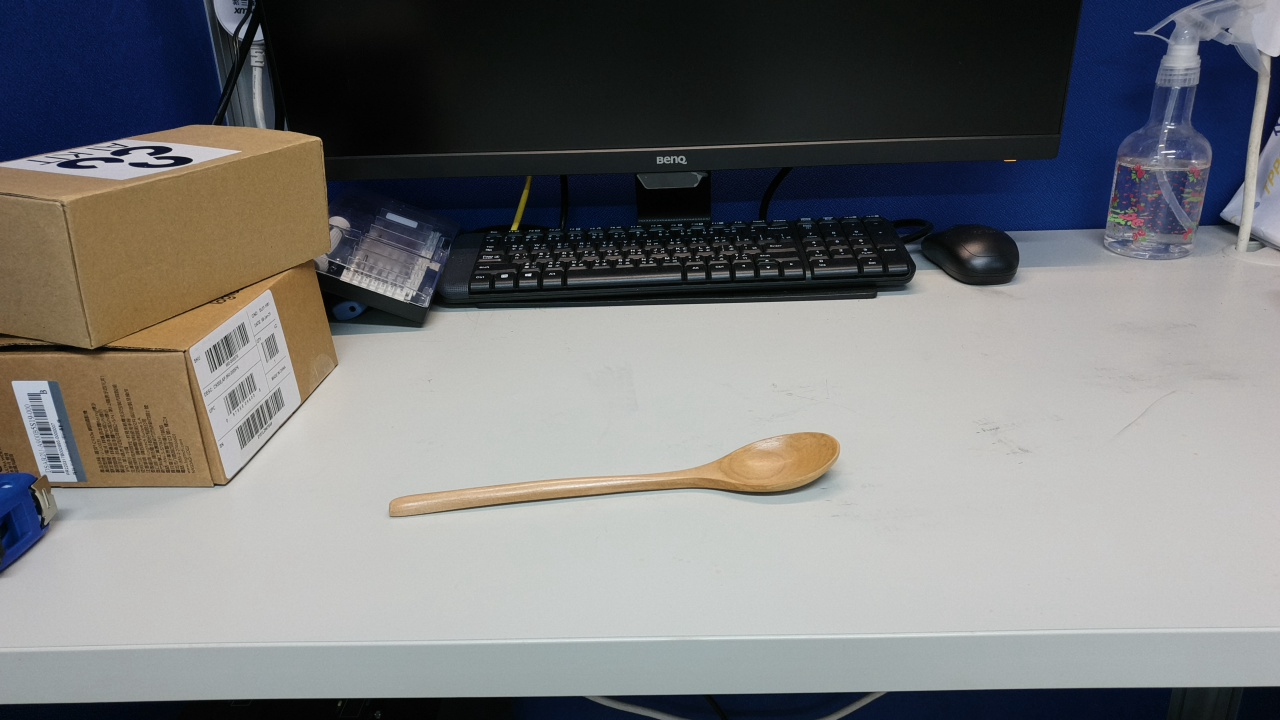circle: (867, 388, 1055, 566)
